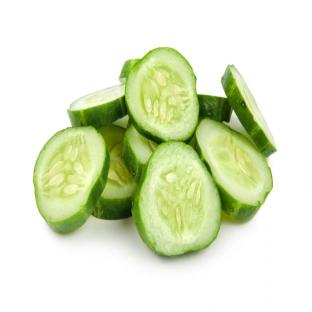Cucumber: (132, 141, 221, 255), (34, 127, 109, 233), (196, 119, 272, 220), (125, 48, 198, 142), (222, 66, 276, 156), (93, 125, 136, 219), (68, 85, 127, 128), (123, 124, 157, 182), (198, 95, 232, 122), (119, 59, 140, 83)
